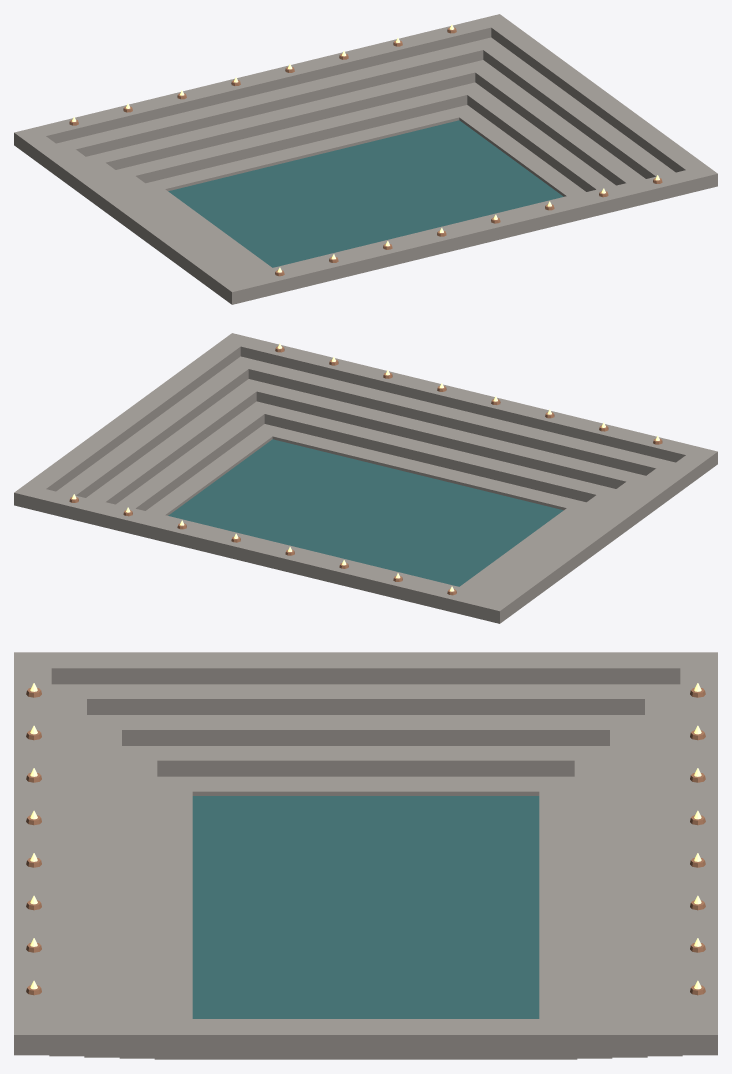
The model's file is saubhagya_kunda.glb.
The picture shows the model from 3 angles, top to bottom: view 1: azimuth 30°, elevation 25°; view 2: azimuth 150°, elevation 25°; view 3: azimuth 270°, elevation 25°; orthographic projection. The views are drawn at different scales.
Visible parts, largest first — view 1: saubhagya_kunda; view 2: saubhagya_kunda; view 3: saubhagya_kunda.
Boxes of the visible parts, box(x1,y1,x2,y2) form: saubhagya_kunda: box(14, 14, 717, 304); saubhagya_kunda: box(14, 333, 717, 623); saubhagya_kunda: box(14, 652, 717, 1059).
Bounding box in the file's own units: 18 × 2.1 × 14.
